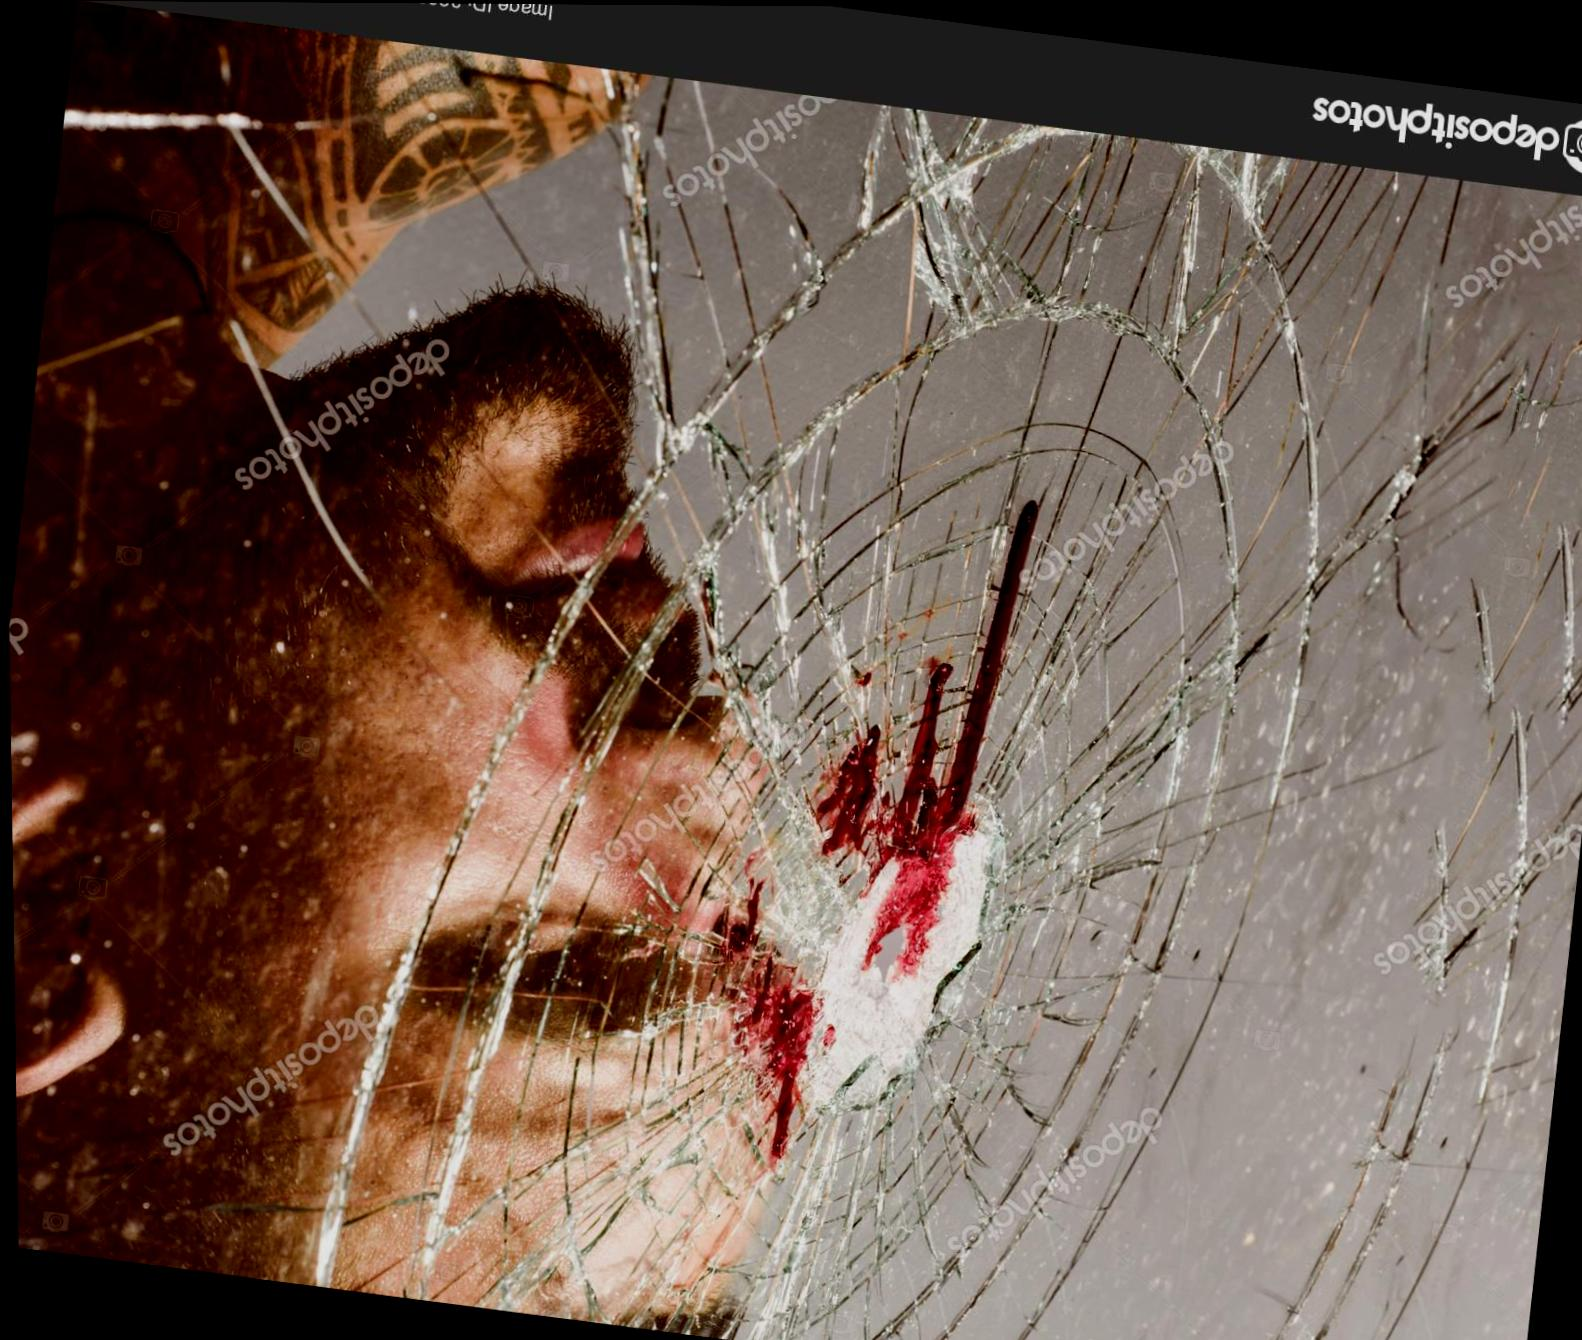Fire: (807, 500, 1037, 984), (719, 952, 820, 1172), (717, 879, 763, 961)
